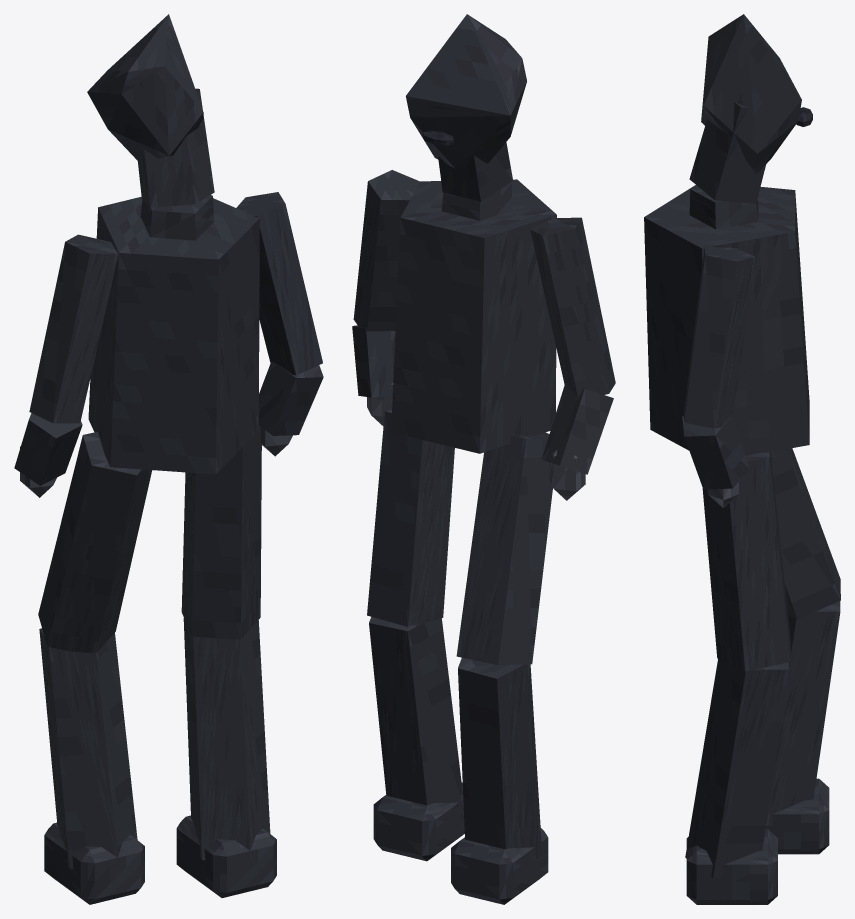
The model's file is f_glassedbody_3.glb.
3 renders of one model, left to right at view 1: azimuth 30°, elevation 25°; view 2: azimuth 150°, elevation 25°; view 3: azimuth 270°, elevation 25°, orthographic. The views are drawn at different scales.
Visible parts, largest first — view 1: block_angular-torso-1, block_faceted-glass-leg-1 (×2), block_faceted-glass-leg-2 (×2), block_angular-glass-arm-1 (×2), block_solid-glass-foot (×2), block_angular-black-glass-head, block_angular-glass-arm-2 (×2), block_vitrified-neck-2, block_vitrified-neck-1; view 2: block_angular-torso-1, block_faceted-glass-leg-2 (×2), block_faceted-glass-leg-1 (×2), block_angular-glass-arm-1 (×2), block_angular-black-glass-head, block_solid-glass-foot (×2), block_angular-glass-arm-2 (×2), block_vitrified-neck-2, block_vitrified-neck-1, block_glass-hand; view 3: block_angular-torso-1, block_faceted-glass-leg-1 (×2), block_faceted-glass-leg-2 (×2), block_angular-black-glass-head, block_angular-glass-arm-1, block_solid-glass-foot (×2), block_vitrified-neck-2, block_angular-glass-arm-2, block_vitrified-neck-1, block_glass-hand.
Part boxes in pixels (box(x1,y1,x2,y2)): block_angular-torso-1: box(88, 196, 259, 474); block_faceted-glass-leg-1 (×2): box(39, 618, 270, 868); block_faceted-glass-leg-2 (×2): box(38, 425, 261, 653); block_angular-glass-arm-1 (×2): box(29, 192, 322, 423); block_solid-glass-foot (×2): box(44, 815, 276, 904); block_angular-black-glass-head: box(87, 14, 203, 162); block_angular-glass-arm-2 (×2): box(14, 361, 323, 485); block_vitrified-neck-2: box(137, 88, 214, 207); block_vitrified-neck-1: box(140, 195, 214, 240); block_angular-torso-1: box(391, 179, 556, 453); block_faceted-glass-leg-2 (×2): box(367, 398, 552, 664); block_faceted-glass-leg-1 (×2): box(369, 617, 542, 859); block_angular-glass-arm-1 (×2): box(353, 170, 615, 396); block_angular-black-glass-head: box(406, 14, 526, 168); block_solid-glass-foot (×2): box(373, 782, 548, 904); block_angular-glass-arm-2 (×2): box(352, 325, 613, 474); block_vitrified-neck-2: box(438, 142, 512, 201); block_vitrified-neck-1: box(441, 183, 512, 220); block_glass-hand: box(549, 450, 585, 500); block_angular-torso-1: box(644, 185, 809, 455); block_faceted-glass-leg-1 (×2): box(685, 601, 840, 878); block_faceted-glass-leg-2 (×2): box(702, 448, 840, 671); block_angular-black-glass-head: box(701, 14, 801, 173); block_angular-glass-arm-1: box(683, 246, 755, 428); block_solid-glass-foot (×2): box(686, 778, 829, 904); block_vitrified-neck-2: box(689, 102, 766, 203); block_angular-glass-arm-2: box(682, 414, 748, 489); block_vitrified-neck-1: box(689, 185, 758, 229); block_glass-hand: box(707, 481, 738, 507).
Size of the model in its own units: 0.3397 by 1.02 by 0.212.
Materials: 1 (1 with a texture image).
